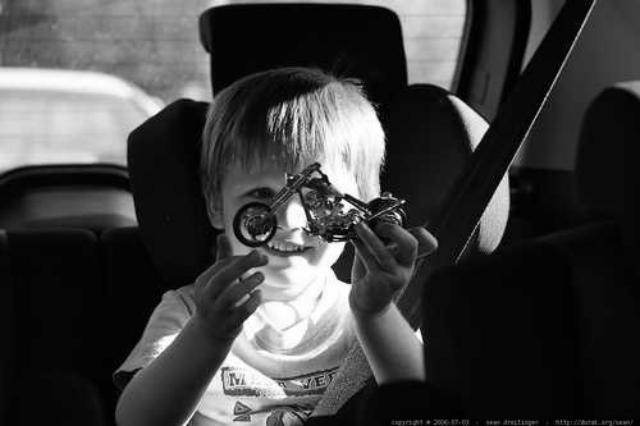Seatbelt: (304, 0, 602, 422)
